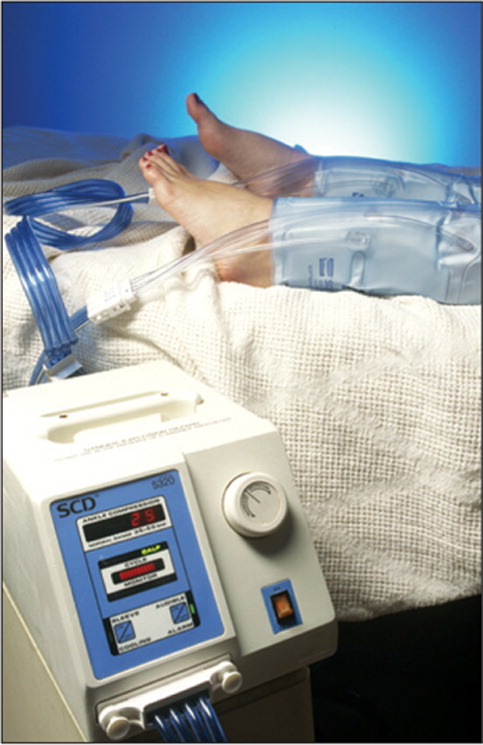patient: (136, 90, 483, 313)
sequential_compression: (1, 149, 480, 735)
